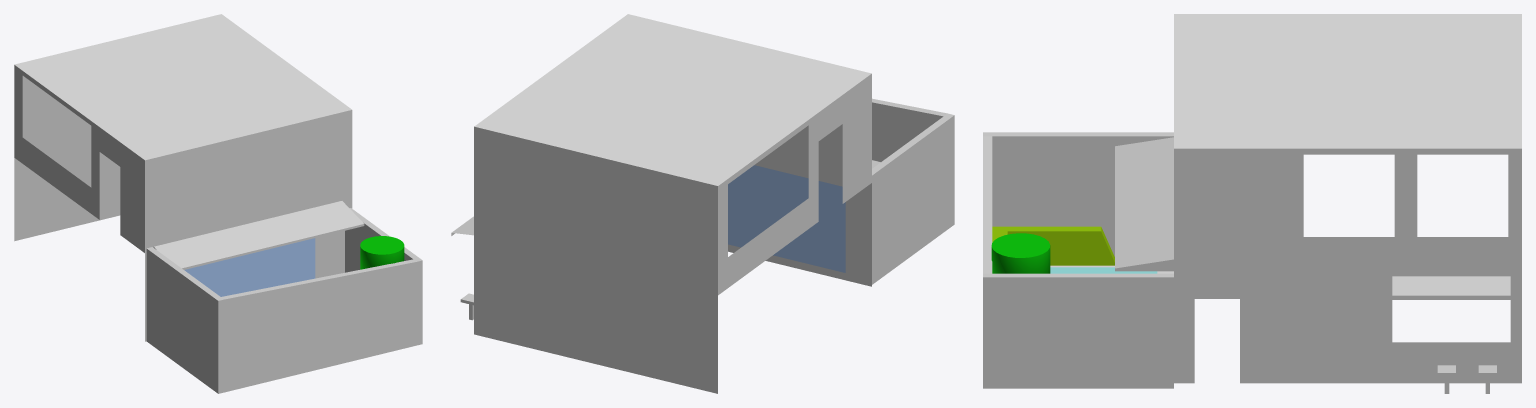
Rendered from cntr_restaurant_02.glb.
3 views of the same model, side by side, from view 1: azimuth 30°, elevation 25°; view 2: azimuth 150°, elevation 25°; view 3: azimuth 270°, elevation 25° (orthographic). The views are drawn at different scales.
Visible parts, largest first — view 1: exterior_walls-col, courtyard_wall-col, roof-col, G-__639210, G-__639111; view 2: exterior_walls-col, roof-col, courtyard_wall-col, G-__639210; view 3: exterior_walls-col, roof-col, courtyard_wall-col, G-__639210, G-__639093, G-__639201, G-__639111, G-__639075.
Part boxes in pixels (x1,y1,x2,y2): exterior_walls-col: (14,65,352,341); courtyard_wall-col: (146,208,422,393); roof-col: (14,14,351,160); G-__639210: (153,201,364,269); G-__639111: (360,236,404,269); exterior_walls-col: (474,74,871,393); roof-col: (474,14,871,185); courtyard_wall-col: (863,98,954,286); G-__639210: (760,153,880,180); exterior_walls-col: (1174,148,1521,383); roof-col: (1174,14,1521,148); courtyard_wall-col: (983,132,1173,388); G-__639210: (1115,137,1173,271); G-__639093: (992,226,1114,265); G-__639201: (1392,276,1510,299); G-__639111: (991,233,1050,273); G-__639075: (1050,265,1173,273).
Size of the model in its own units: 7.8 by 5.85 by 11.85.
